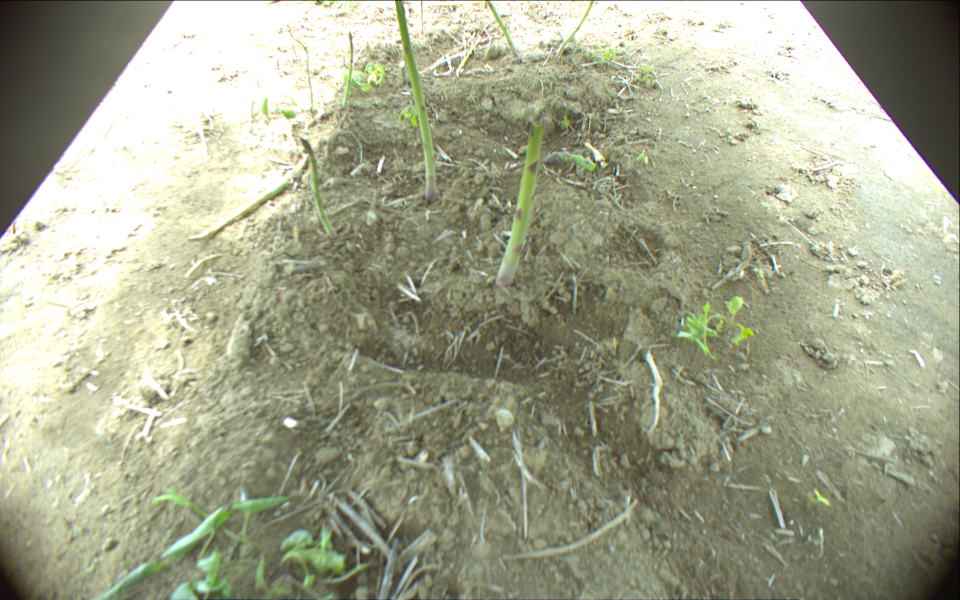aspa: (189, 156, 306, 241), (390, 1, 437, 199), (496, 116, 544, 287), (302, 135, 338, 242), (554, 1, 594, 63), (486, 1, 521, 58), (289, 24, 313, 105), (544, 150, 598, 175), (342, 31, 355, 110), (418, 1, 426, 34)
